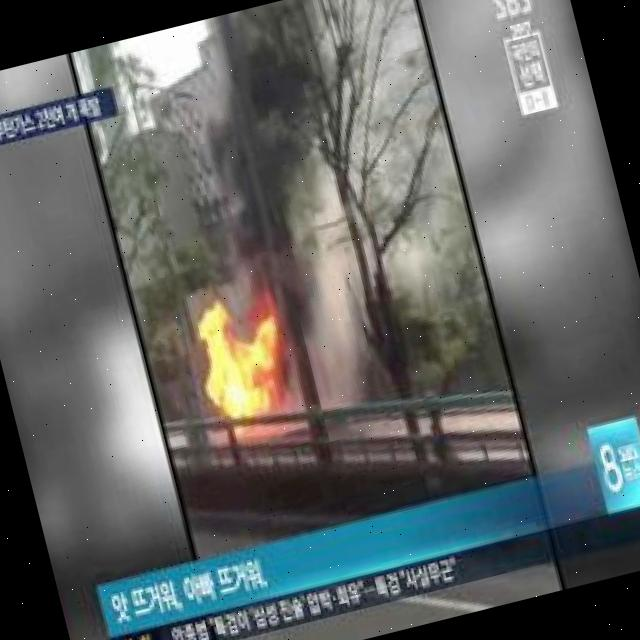fire: (192, 305, 298, 433)
